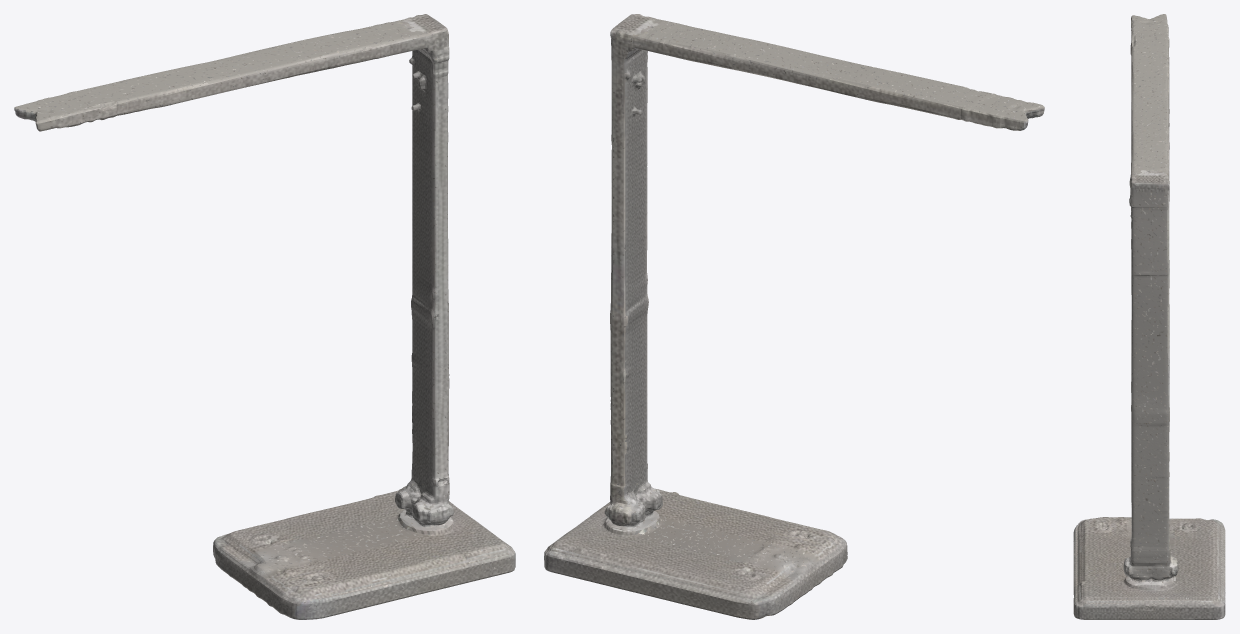
File: white-crown-dimmable-charging-sensitive.glb
The picture shows the model from 3 angles, left to right: view 1: azimuth 30°, elevation 25°; view 2: azimuth 150°, elevation 25°; view 3: azimuth 270°, elevation 25°; orthographic projection. The views are drawn at different scales.
Visible parts, largest first — view 1: world; view 2: world; view 3: world.
Part boxes in pixels (<box>): world: <box>14,14,515,619</box>; world: <box>544,14,1044,619</box>; world: <box>1073,14,1225,619</box>.
Size of the model in its own units: 1.76 by 1.99 by 0.6374.
1 material, 1 textured.
